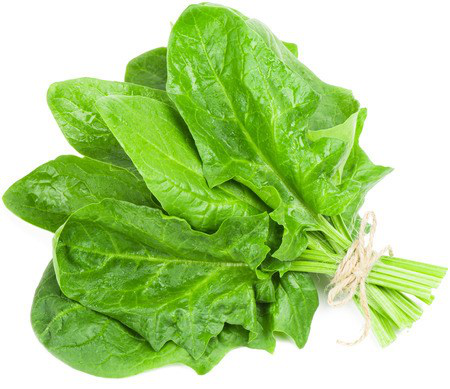Bayam: (12, 20, 443, 377)
